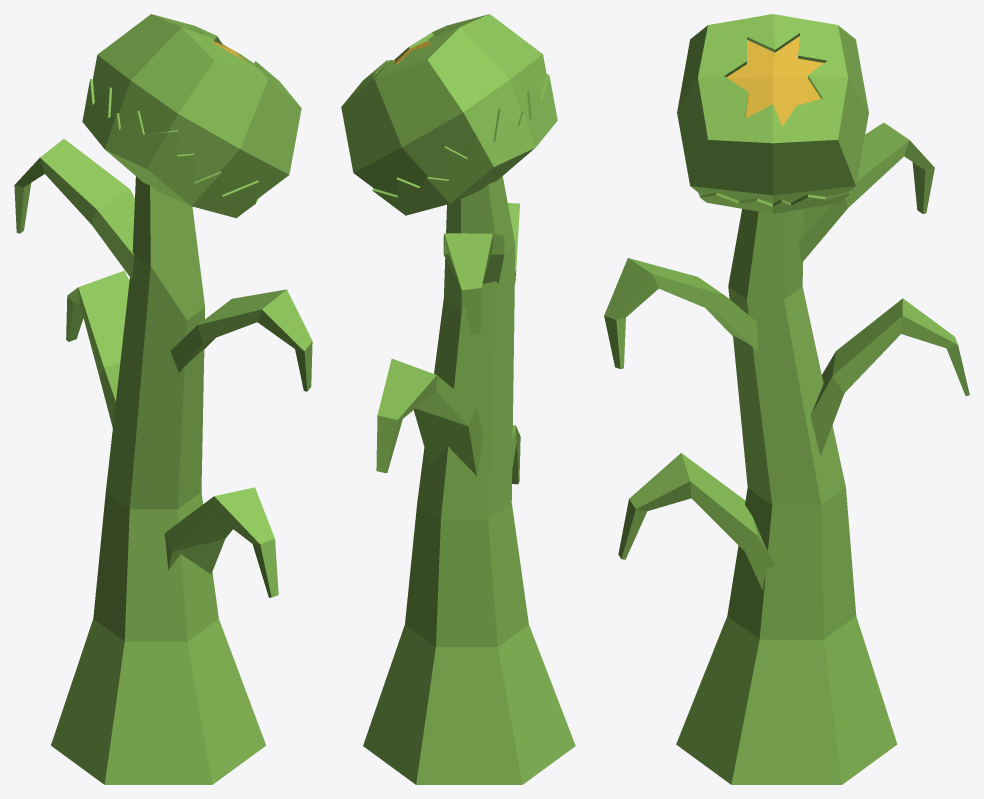
The model's file is sunflower02.glb.
3 renders of one model, left to right at view 1: azimuth 30°, elevation 25°; view 2: azimuth 150°, elevation 25°; view 3: azimuth 270°, elevation 25°, orthographic. The views are drawn at different scales.
Visible parts, largest first — view 1: Sunflower-2; view 2: Sunflower-2; view 3: Sunflower-2.
Boxes of the visible parts, left/top/right/bottom form: Sunflower-2: left=14, top=14, right=312, bottom=784; Sunflower-2: left=341, top=14, right=575, bottom=784; Sunflower-2: left=604, top=14, right=969, bottom=784.
Bounding box in the file's own units: 0.1584 × 0.5572 × 0.2501.
